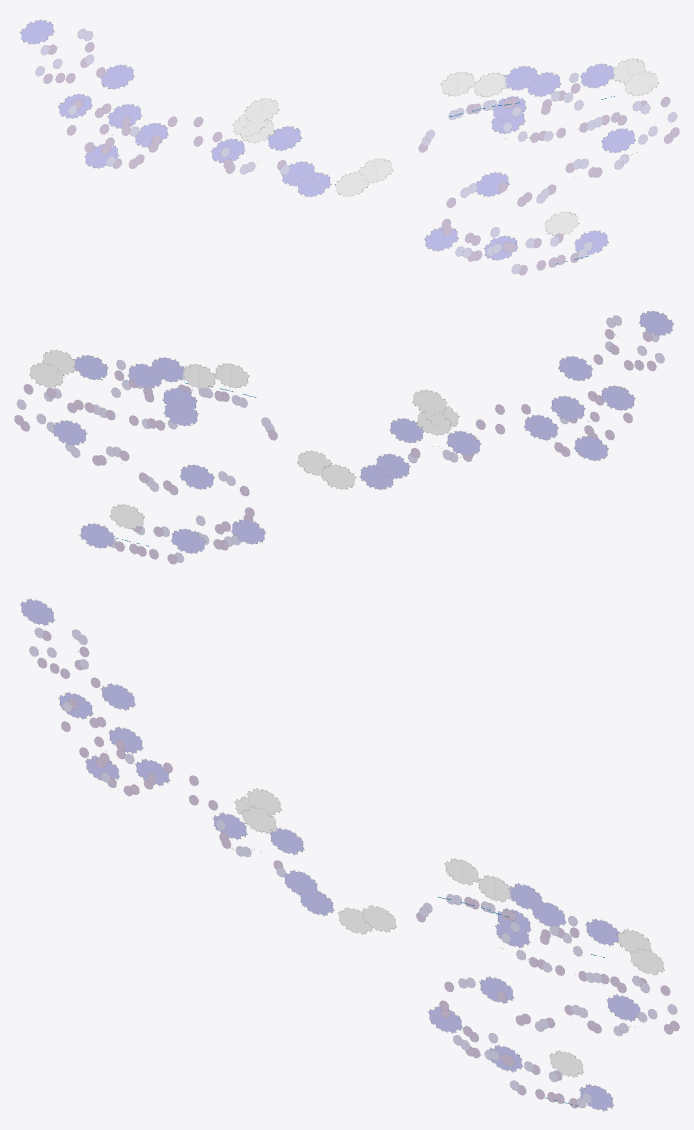
File: snow02_bg.glb
3 renders of one model, top to bottom at view 1: azimuth 30°, elevation 25°; view 2: azimuth 150°, elevation 25°; view 3: azimuth 330°, elevation 25°, orthographic.
Parts seen in each view (by area): view 1: snow02_bg; view 2: snow02_bg; view 3: snow02_bg.
Boxes of the visible parts, left/top/right/bottom form: snow02_bg: left=20, top=19, right=679, bottom=275; snow02_bg: left=14, top=310, right=673, bottom=564; snow02_bg: left=20, top=598, right=679, bottom=1111.
Bounding box in the file's own units: 6713 × 3596 × 135.
6 materials, 6 textured.
